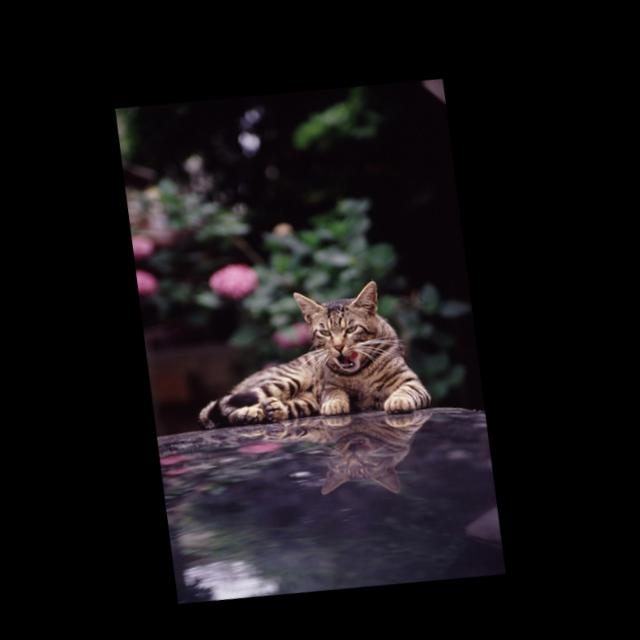animals: (294, 272, 384, 353)
